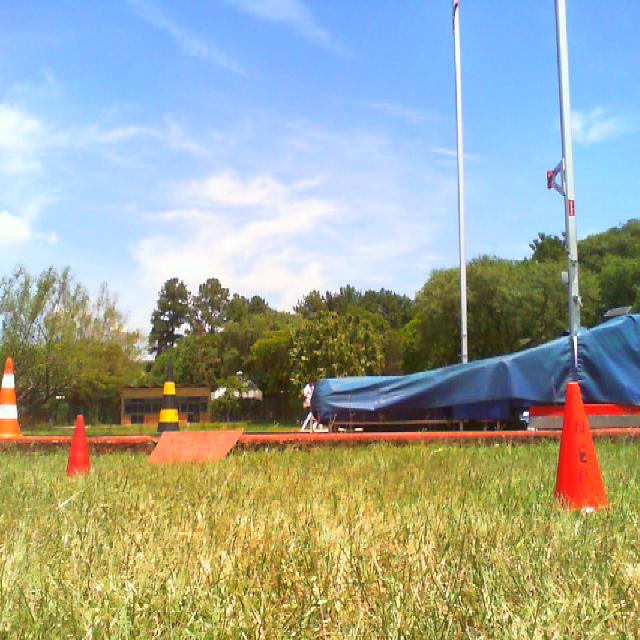cone: (556, 384, 612, 512), (152, 367, 180, 437), (0, 358, 22, 438), (66, 415, 92, 477)
